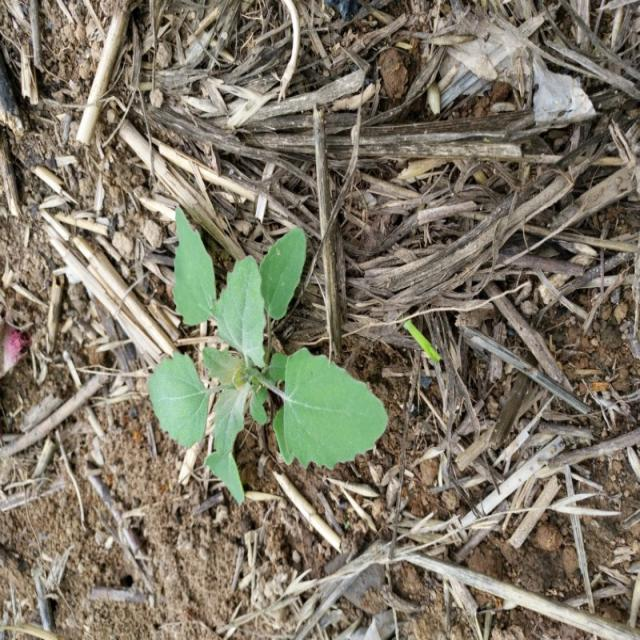ca: (152, 210, 390, 501)
